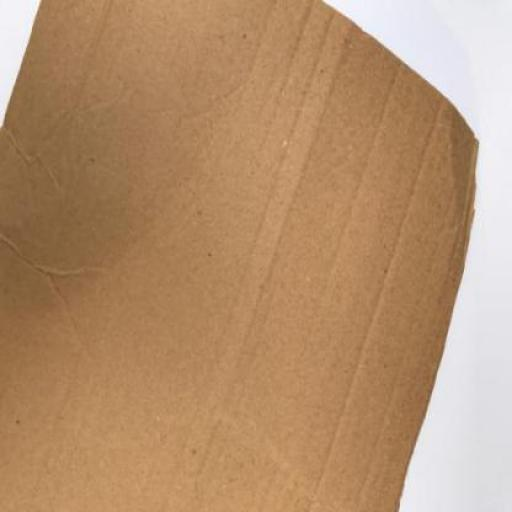cardboard: (1, 0, 479, 511)
